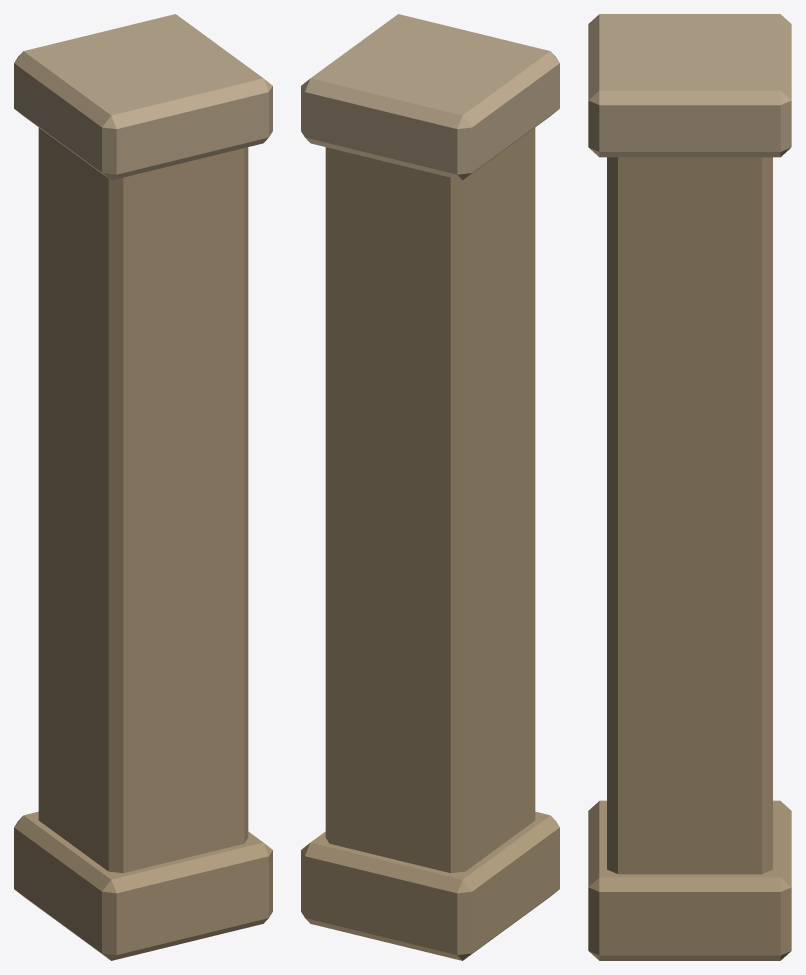
The model's file is alc_railing_endpost.glb.
3 views of the same model, side by side, from view 1: azimuth 30°, elevation 25°; view 2: azimuth 150°, elevation 25°; view 3: azimuth 270°, elevation 25° (orthographic). The views are drawn at different scales.
Visible parts, largest first — view 1: alc_railing_endpost; view 2: alc_railing_endpost; view 3: alc_railing_endpost.
Boxes of the visible parts, x1,y1,x2,y2 form: alc_railing_endpost: [14, 14, 272, 960]; alc_railing_endpost: [301, 14, 559, 960]; alc_railing_endpost: [588, 14, 791, 960].
Bounding box in the file's own units: 0.22 × 1.04 × 0.22.
